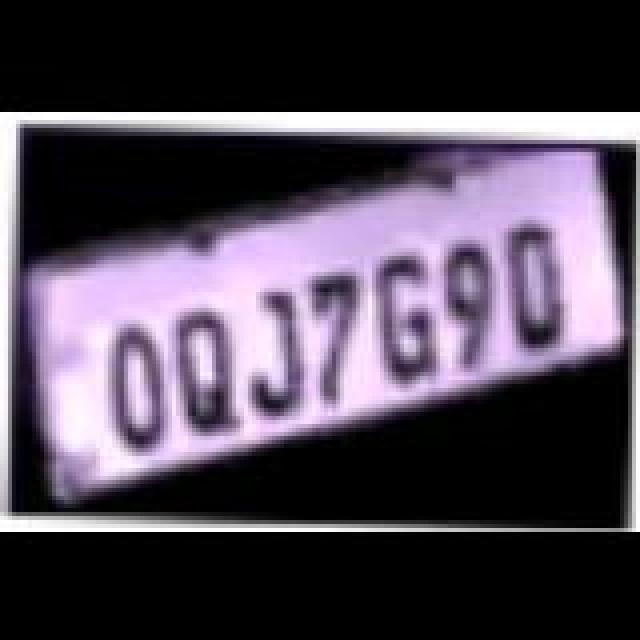7: (282, 266, 398, 406)
9: (418, 238, 526, 370)
D: (482, 220, 590, 356)
G: (352, 250, 464, 390)
J: (220, 284, 332, 420)
O: (82, 320, 190, 456)
Q: (150, 306, 266, 438)
